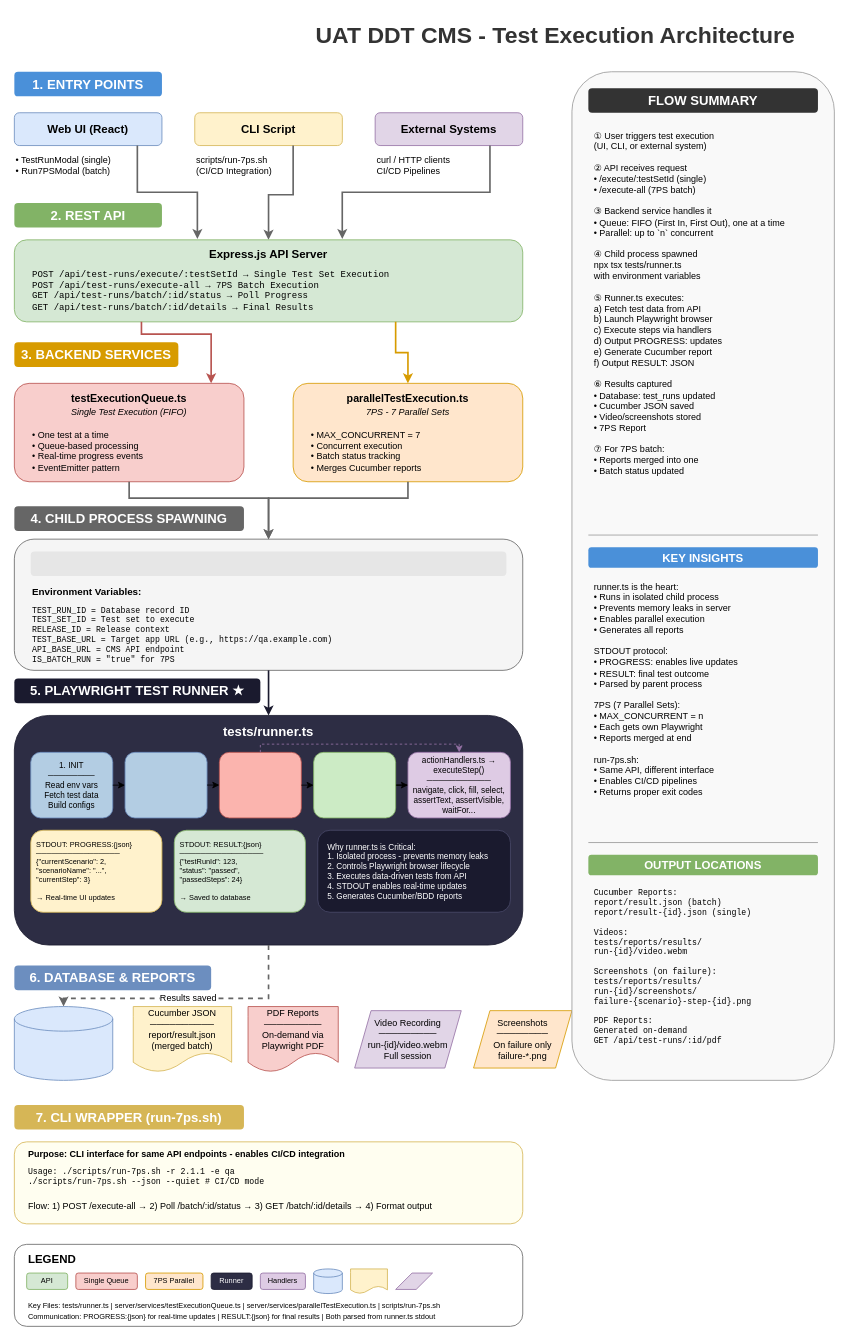
Image size: 857x1341. Some labels were removed from this diagram. The shapes that lost their labels are listed below. From the top down, each one's centre as x and y in pixels, then its label:
the point at 268,563: spawn('npx', ['tsx', 'tests/runner.ts'])
the point at 165,785: 2. BROWSER ──────── chromium.launch() Video recording Navigate URL
the point at 260,785: 3. EXECUTE ──────── Loop: Case→ Scenario→Step Output PROGRESS:
the point at 354,785: 4. CLEANUP ──────── Close browser Generate reports Output RESULT:
the point at 63,1043: SQLite Database ────────── test_runs test_run_steps
the point at 327,1281: DB
the point at 368,1281: Report
the point at 414,1280: File
